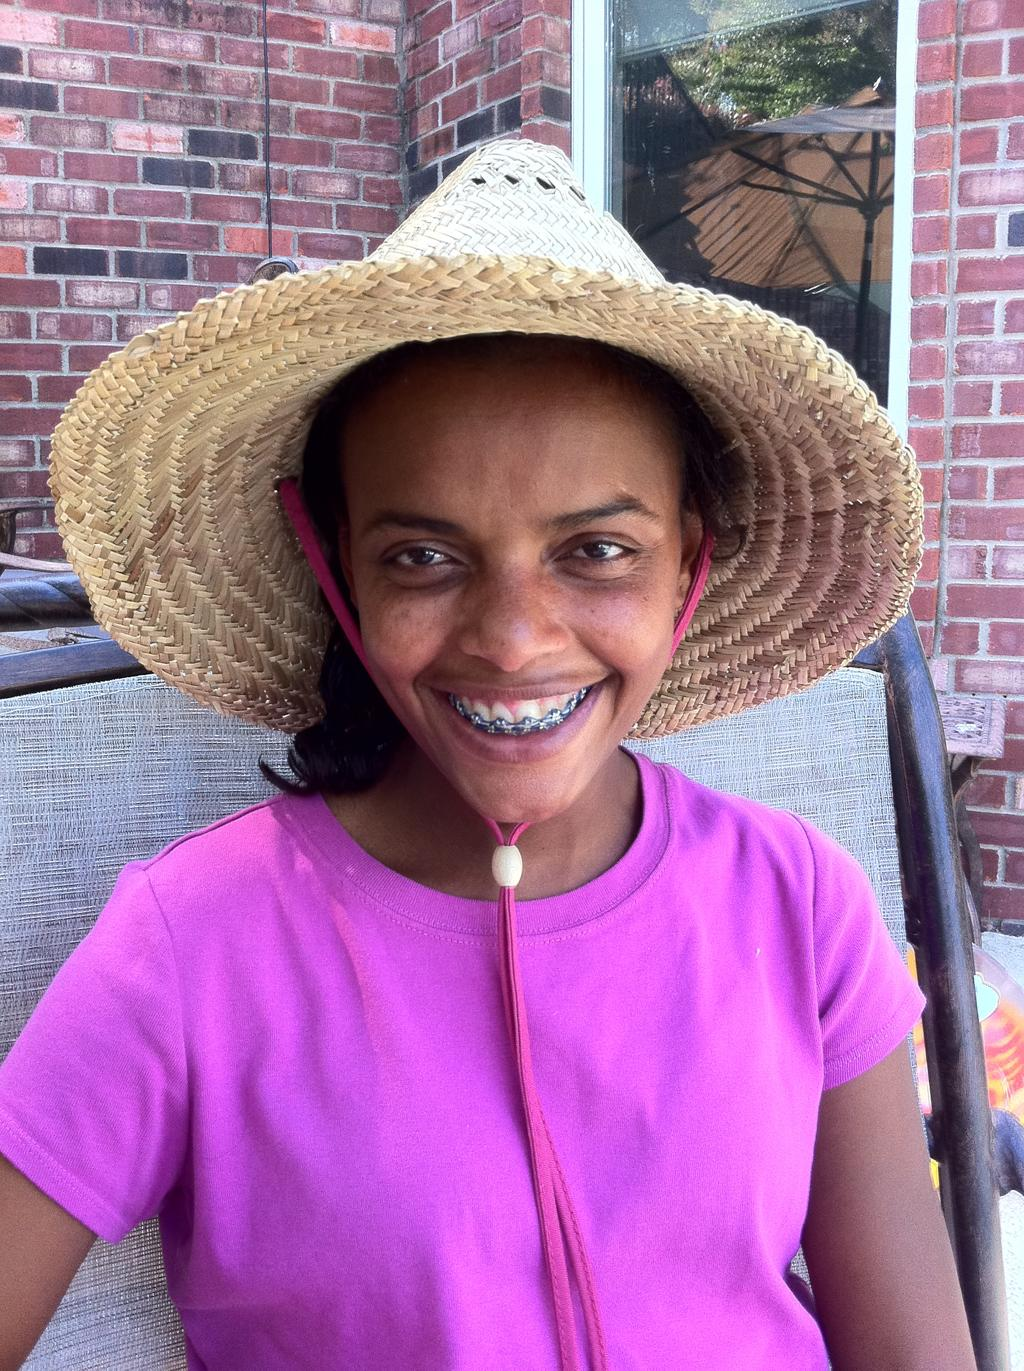face: (340, 362, 672, 828)
